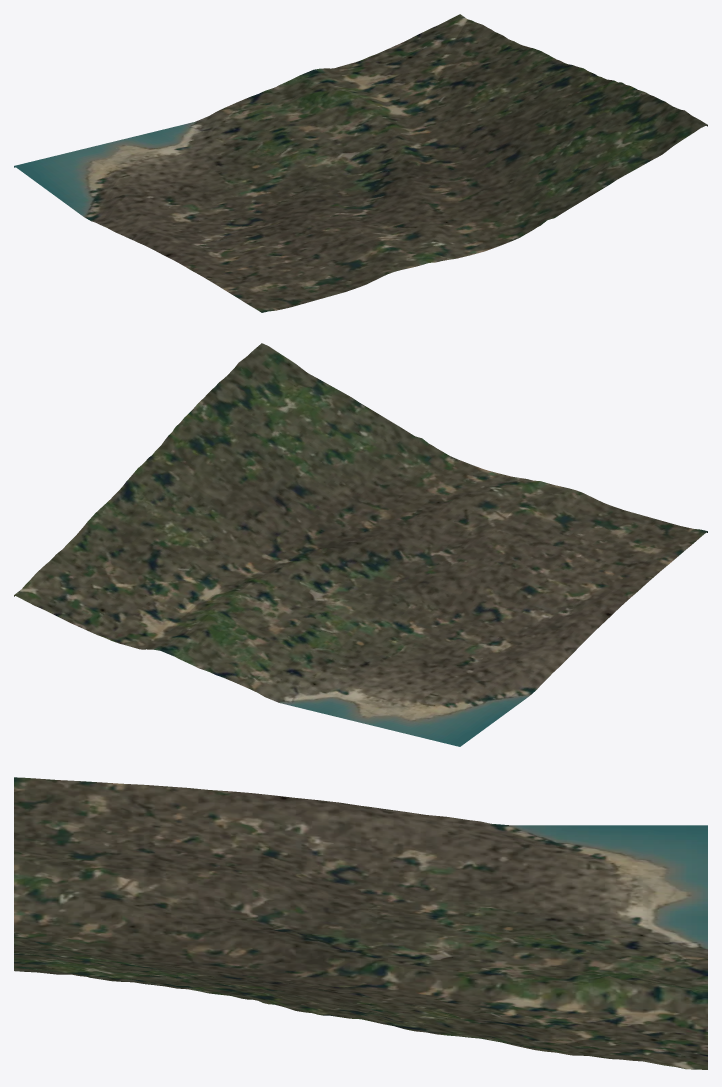
3 renders of one model, top to bottom at view 1: azimuth 30°, elevation 25°; view 2: azimuth 150°, elevation 25°; view 3: azimuth 270°, elevation 25°, orthographic. The views are drawn at different scales.
Bounding box in the file's own units: 250 × 61.89 × 241.
Materials: 1 (1 with a texture image).
